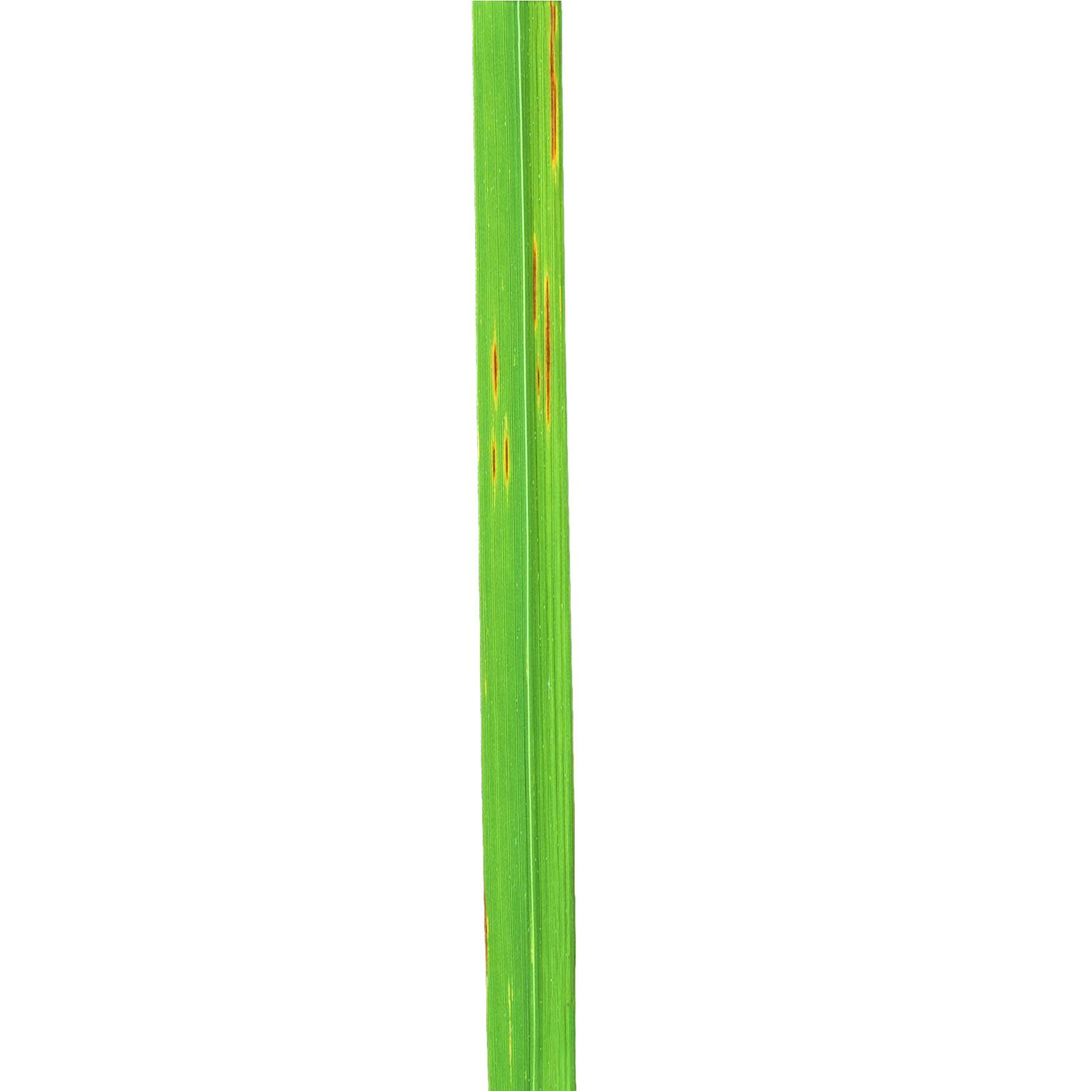LEAF: (473, 1, 575, 1090)
NBS: (550, 1, 558, 188), (545, 276, 551, 422), (492, 338, 498, 399), (533, 236, 537, 325), (484, 896, 488, 974), (504, 426, 509, 482), (492, 441, 496, 482), (536, 363, 540, 399)
